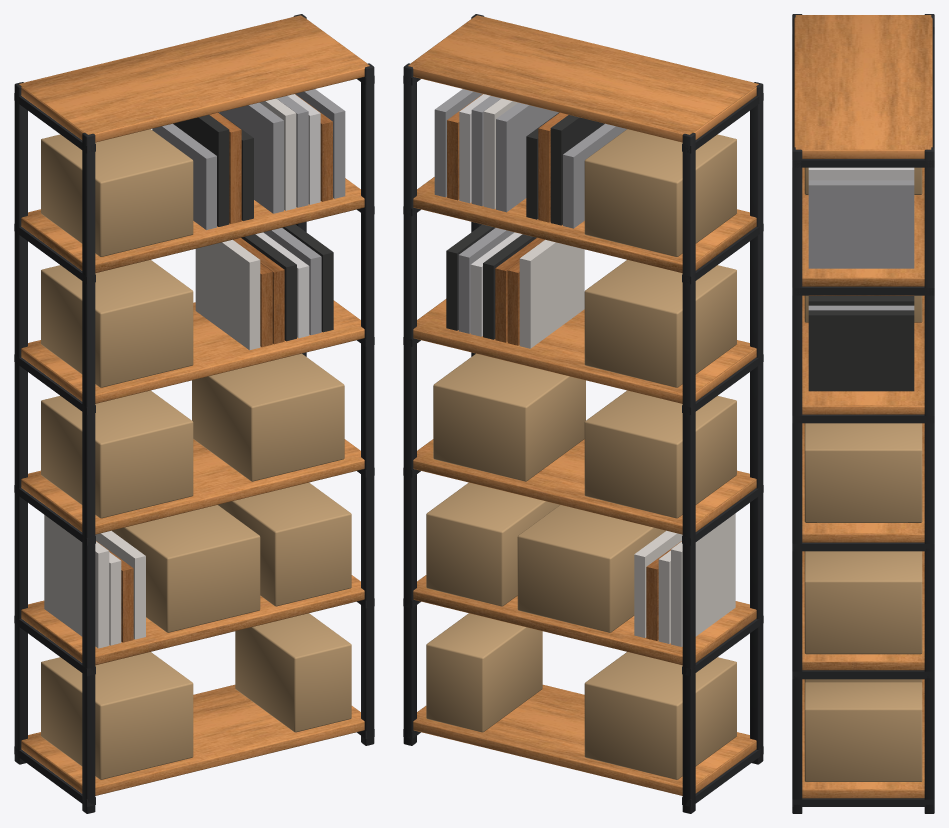
File: storage.open-shelf-low.glb
3 renders of one model, left to right at view 1: azimuth 30°, elevation 25°; view 2: azimuth 150°, elevation 25°; view 3: azimuth 270°, elevation 25°, orthographic. The views are drawn at different scales.
Visible parts, largest first — view 1: storage.open-shelf-low.001; view 2: storage.open-shelf-low.001; view 3: storage.open-shelf-low.001.
Boxes of the visible parts, left/top/right/bottom form: storage.open-shelf-low.001: left=14, top=14, right=374, bottom=813; storage.open-shelf-low.001: left=403, top=14, right=763, bottom=813; storage.open-shelf-low.001: left=792, top=14, right=934, bottom=813.
Bounding box in the file's own units: 0.8 × 1.8 × 0.35.
Materials: 8 (2 with a texture image).
